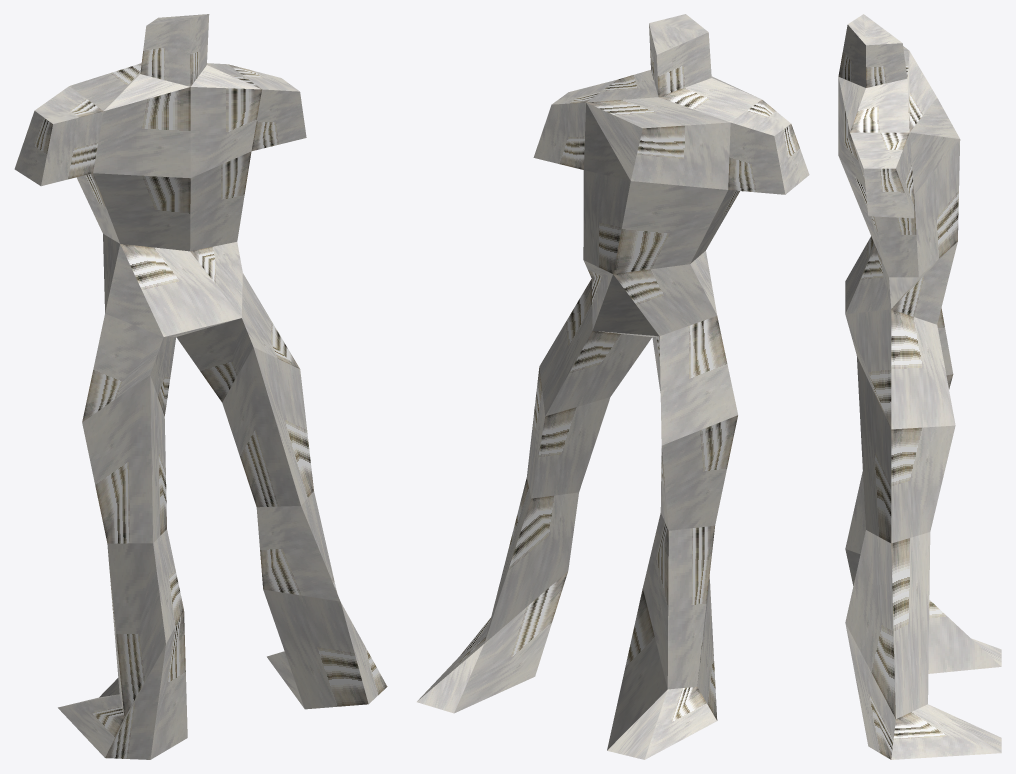
The picture shows the model from 3 angles, left to right: view 1: azimuth 30°, elevation 25°; view 2: azimuth 150°, elevation 25°; view 3: azimuth 270°, elevation 25°; orthographic projection. The views are drawn at different scales.
Parts seen in each view (by area): view 1: prim189-statue02; view 2: prim189-statue02; view 3: prim189-statue02.
Part boxes in pixels (box(x1,y1,x2,y2)): prim189-statue02: box(14, 14, 387, 759); prim189-statue02: box(417, 14, 809, 759); prim189-statue02: box(838, 14, 1001, 759).
Size of the model in its own units: 159 by 309 by 71.
1 material, 1 textured.
